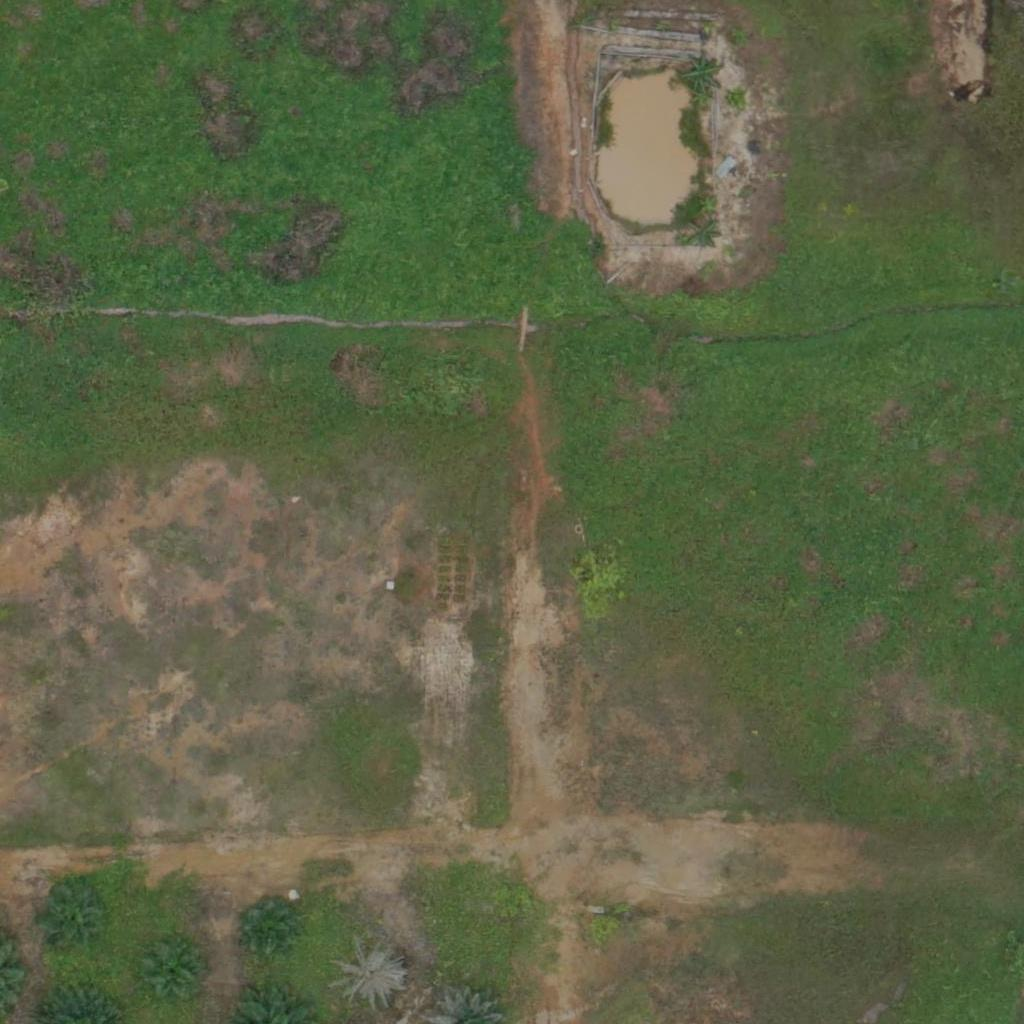Kelapa_Sawit: (332, 936, 407, 1012), (43, 888, 106, 951), (140, 935, 203, 998), (236, 896, 298, 958)
